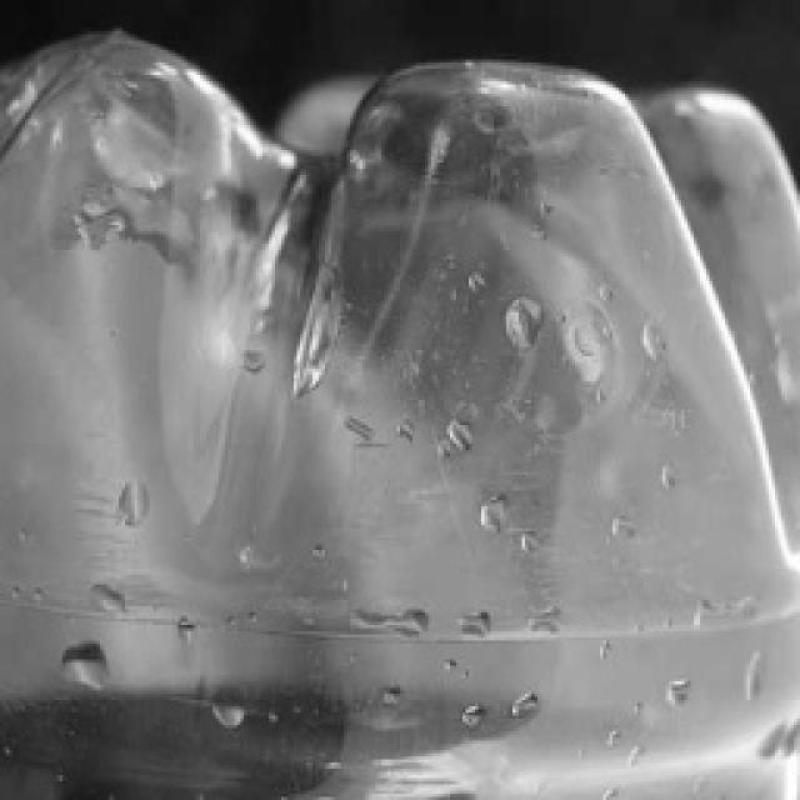botella: (0, 27, 800, 800)
